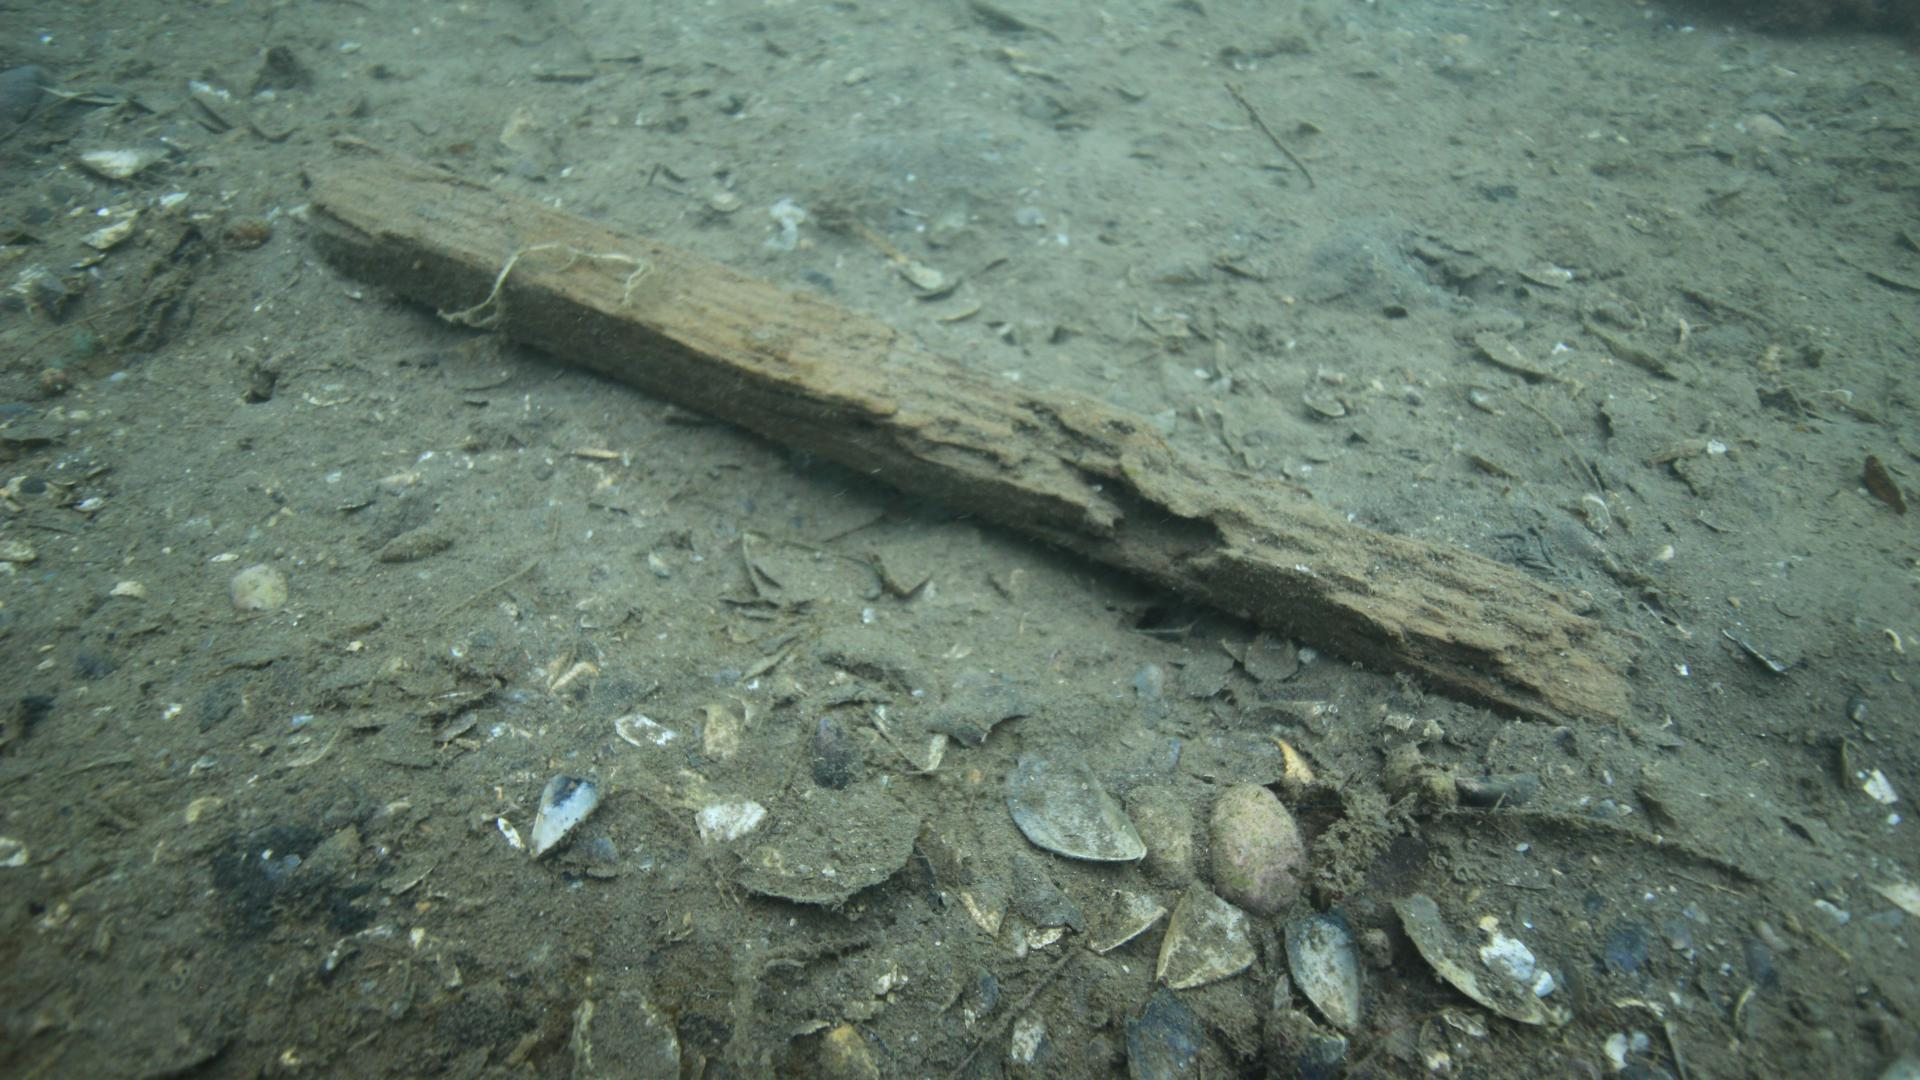wood: (294, 133, 1640, 721)
